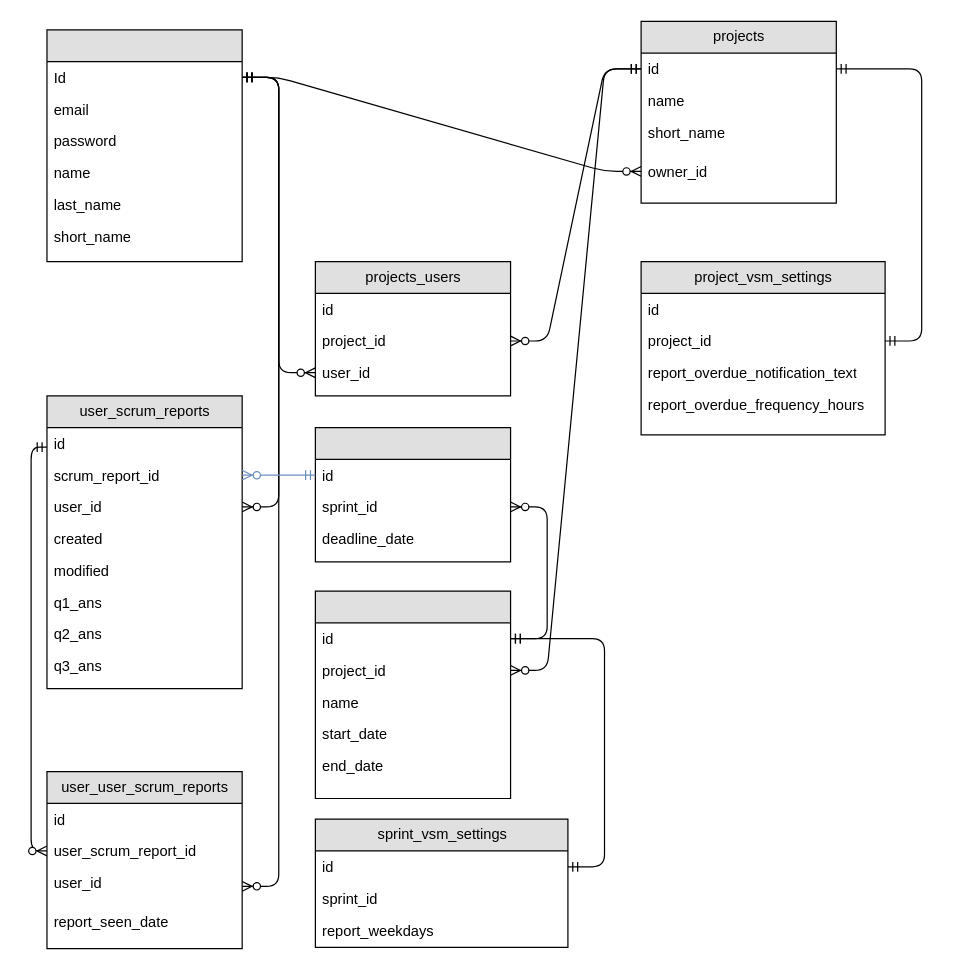
Some shapes in this 954 by 971 pixel diagram are drawn without their labels. The shapes that lost their labels are listed below. From the top down, each one's box as (x1, y1, x2, y2) in pixels, then its label:
(46, 29, 242, 262): users
(314, 426, 511, 562): scrum_reports
(314, 590, 511, 798): sprints
